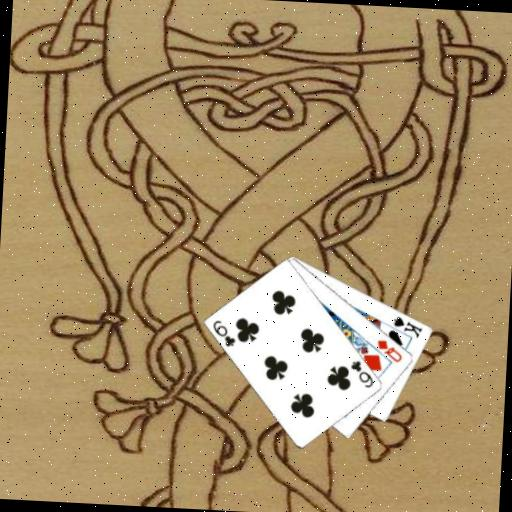6C: (347, 357, 377, 390), (210, 317, 239, 349)
KS: (390, 313, 425, 340)
QD: (374, 336, 405, 364)
